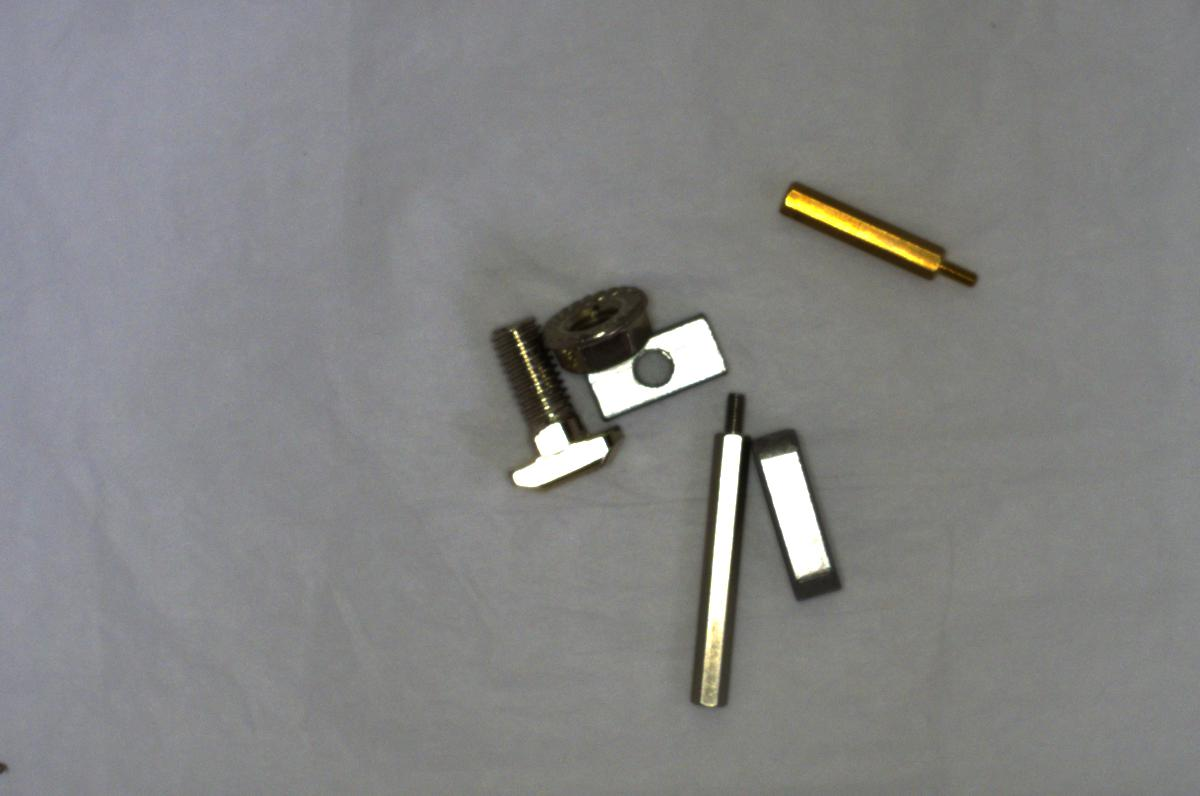Flange nut: (546, 274, 654, 381)
Hexagon pillar: (779, 175, 982, 293)
Hexagonal steel column: (684, 393, 746, 708)
Keybar: (752, 419, 845, 600)
Rectangular nut: (586, 313, 727, 416)
T-shaped screw: (477, 313, 626, 502)
